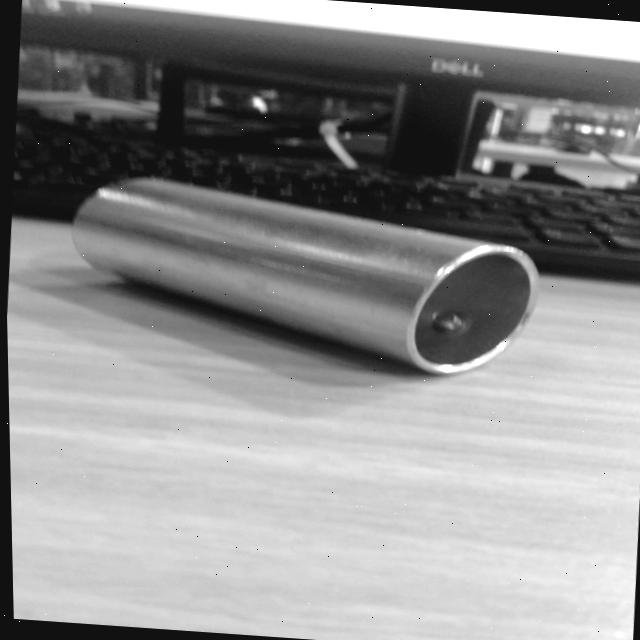Co_Lon: (58, 164, 545, 391)
